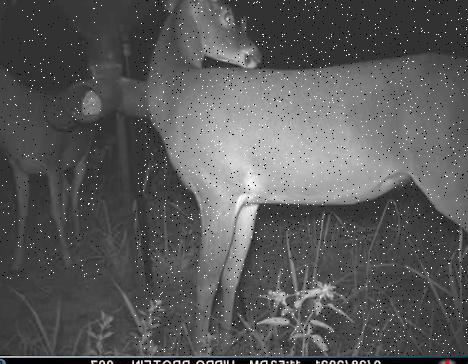Deer: (135, 0, 468, 356), (0, 0, 102, 279)
